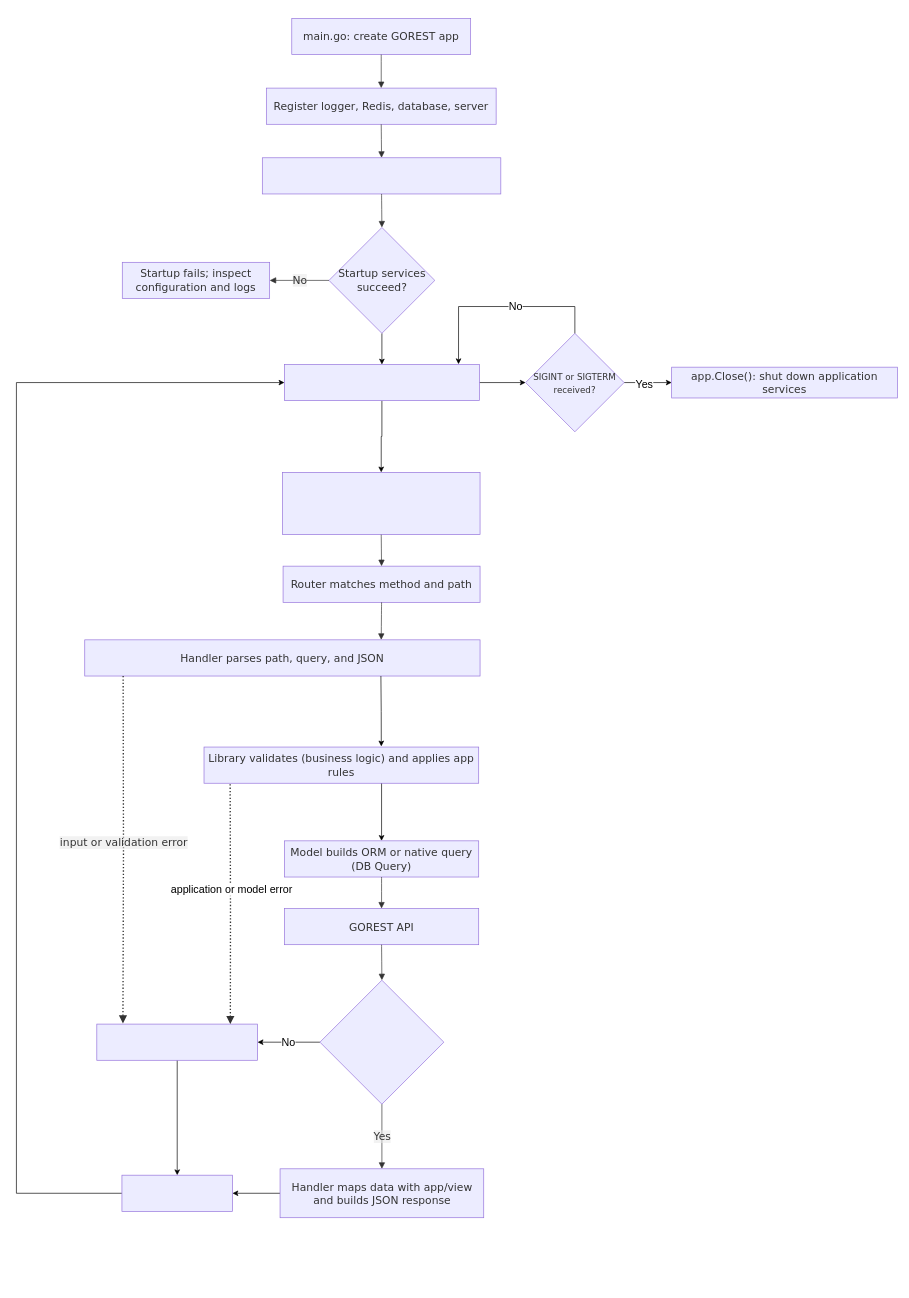
This 909x1298 diagram has some shape labels left out. Here are the shapes that lost their labels. From the top down, the box of each, then its label:
(262, 157, 501, 194): Register User, Department, Order routers
(284, 364, 479, 401): Serve HTTP requests
(282, 472, 480, 535): Server middleware recover, request ID, compression, CORS, helmet, rate limiter
(96, 1023, 258, 1060): Handler logs error and sends error response
(319, 980, 444, 1104): Database operation succeeds?
(121, 1175, 232, 1211): HTTP response
